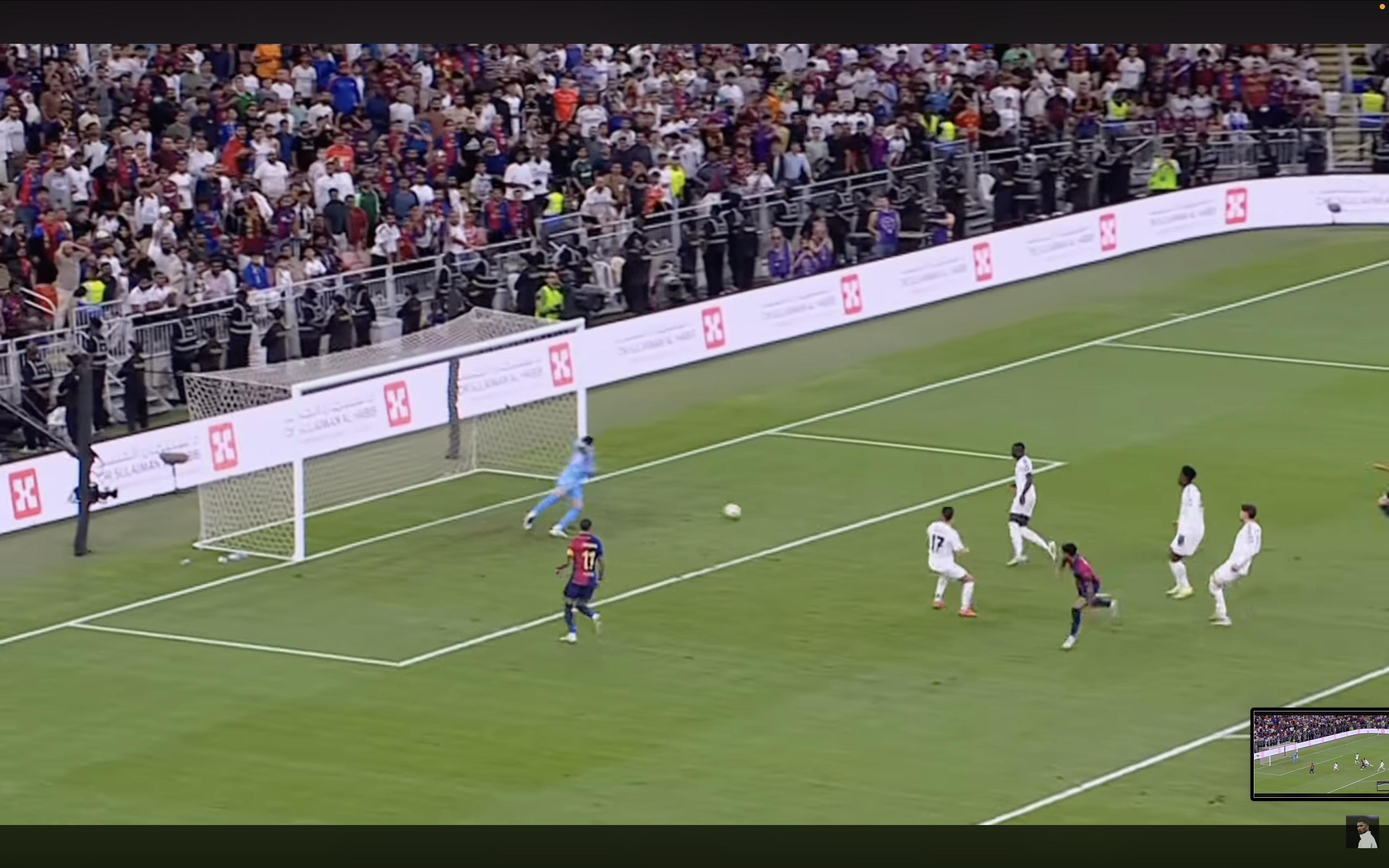ball: (723, 503, 741, 519)
goalkeeper: (524, 436, 595, 538)
player: (1057, 543, 1117, 649), (1209, 504, 1261, 626), (1007, 442, 1057, 565), (556, 518, 603, 643), (928, 507, 976, 617), (1167, 466, 1205, 599), (1377, 491, 1389, 516), (1309, 762, 1314, 774), (1333, 763, 1339, 771)
